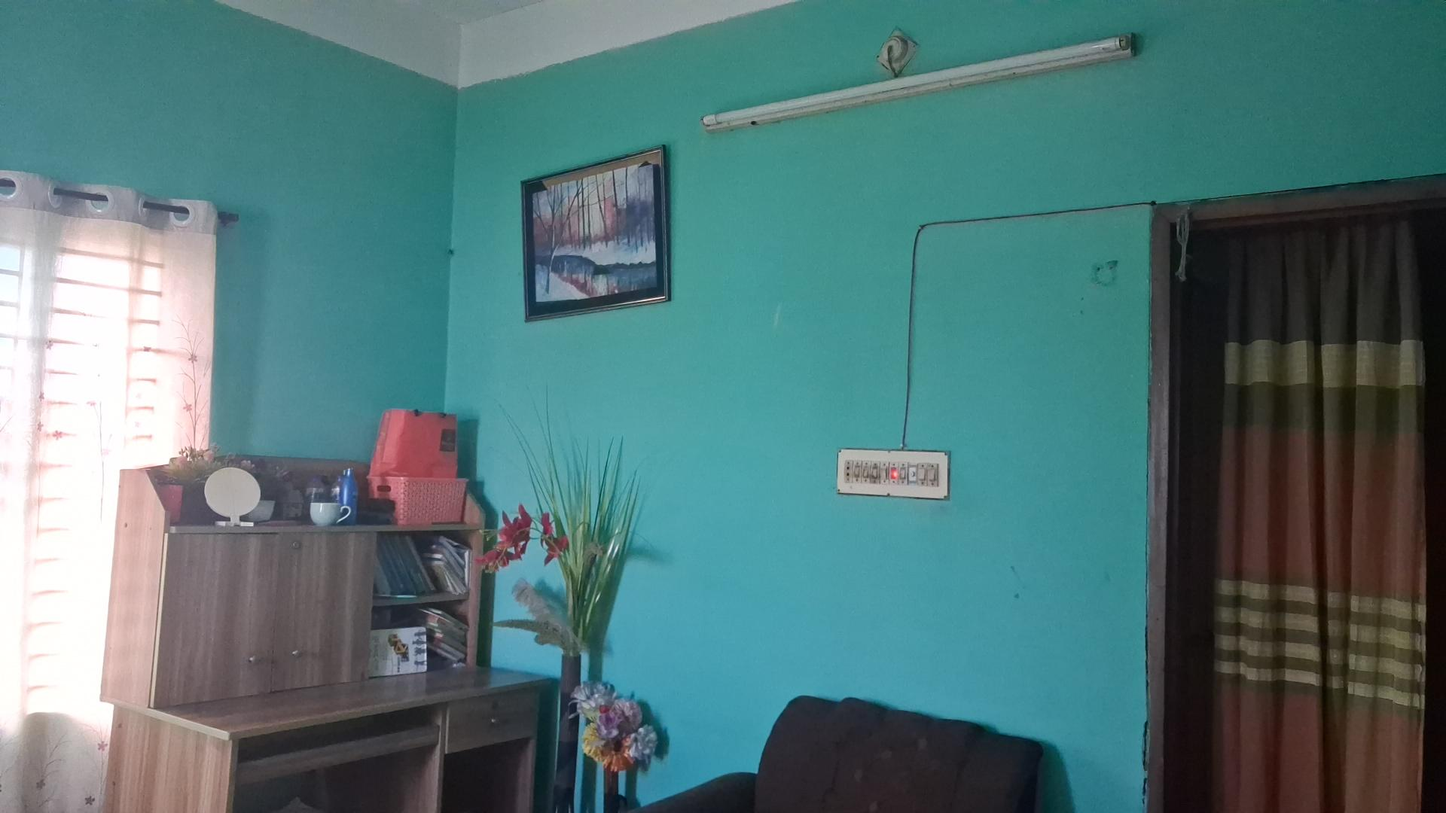Basket: (370, 471, 466, 526)
Cup: (310, 498, 351, 529)
Drawer: (440, 693, 542, 751), (375, 416, 459, 471)
Light: (695, 24, 1142, 132)
Photo: (514, 148, 671, 320)
Table: (112, 447, 531, 813)
